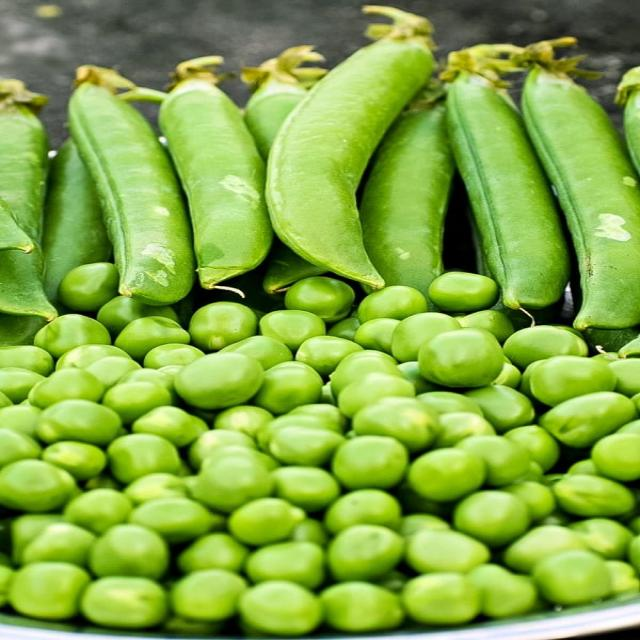pea: (0, 324, 640, 633)
